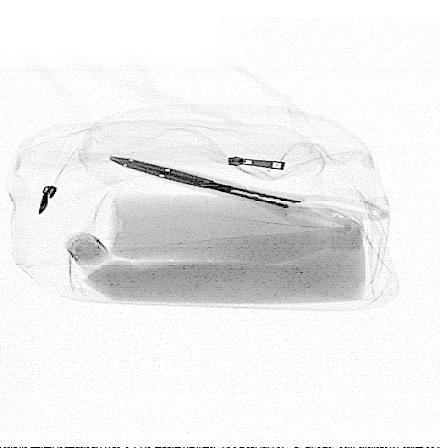Scissors: (103, 157, 392, 239)
